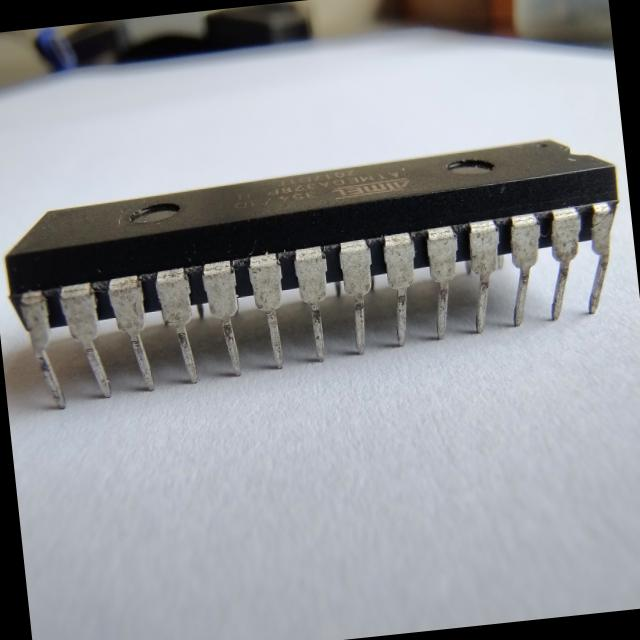atmega: (0, 129, 636, 413)
